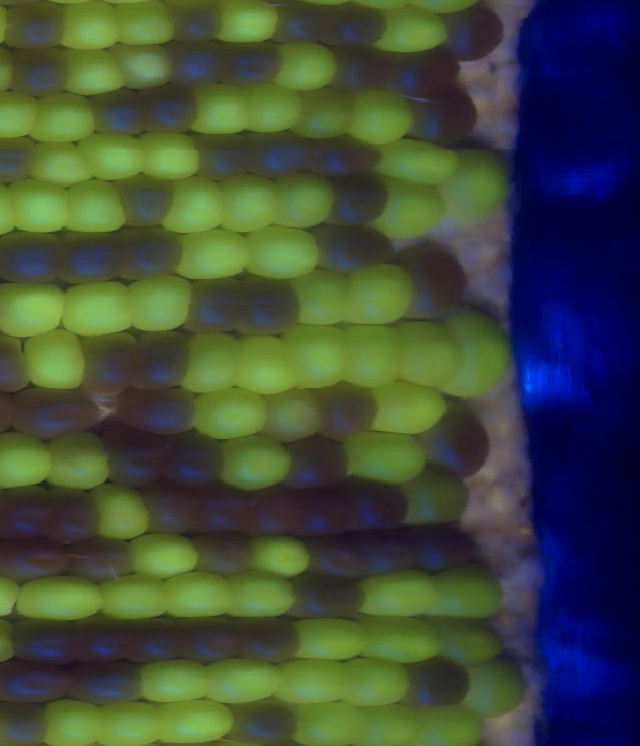fluorescent: (435, 307, 515, 406), (387, 457, 477, 534), (437, 142, 514, 227), (273, 318, 356, 394), (423, 560, 513, 629), (453, 650, 532, 725), (10, 571, 112, 629), (226, 327, 308, 399), (389, 313, 463, 391), (15, 322, 93, 395), (417, 611, 513, 670), (267, 653, 361, 713), (120, 266, 198, 338), (350, 564, 448, 621), (370, 129, 464, 188), (350, 610, 444, 669), (205, 167, 286, 235), (58, 275, 140, 342), (342, 258, 416, 332), (168, 225, 259, 285), (239, 223, 327, 285), (365, 173, 448, 238), (39, 425, 117, 494), (85, 477, 158, 550), (335, 318, 407, 392), (267, 167, 343, 237), (338, 429, 433, 485), (286, 262, 364, 330), (176, 327, 249, 399), (212, 431, 298, 491), (90, 566, 176, 626), (197, 651, 285, 709), (155, 566, 242, 624), (131, 649, 218, 707), (141, 698, 246, 746), (161, 171, 234, 240), (215, 567, 308, 621), (277, 694, 373, 746), (132, 119, 204, 188), (184, 381, 271, 438), (0, 171, 74, 238), (0, 276, 74, 343), (183, 78, 260, 141), (345, 81, 417, 148), (364, 4, 455, 57), (251, 383, 330, 444), (366, 380, 450, 437), (286, 613, 378, 665), (335, 654, 419, 710), (27, 89, 106, 148), (118, 529, 204, 583), (289, 81, 361, 145), (53, 44, 133, 101), (73, 126, 149, 186), (0, 427, 66, 496), (269, 35, 342, 97), (64, 175, 132, 240), (234, 78, 306, 137), (52, 1, 125, 59), (32, 692, 110, 746), (241, 529, 316, 585), (84, 698, 171, 746), (23, 132, 95, 189), (107, 40, 183, 93), (410, 702, 497, 746), (351, 698, 429, 746), (110, 1, 184, 51), (213, 1, 287, 49), (0, 83, 43, 145)
nonfluorescent: (421, 400, 502, 485), (7, 381, 111, 446), (394, 238, 474, 321), (229, 272, 312, 343), (282, 567, 374, 628), (305, 219, 400, 278), (0, 221, 77, 293), (74, 327, 148, 401), (406, 80, 486, 148), (111, 220, 192, 286), (151, 428, 233, 493), (219, 610, 307, 670), (1, 612, 94, 668), (398, 650, 478, 715), (309, 380, 388, 445), (110, 384, 201, 440), (49, 227, 127, 291), (387, 45, 473, 103), (109, 164, 182, 232), (335, 474, 419, 533), (439, 2, 510, 71), (238, 124, 321, 182), (275, 435, 356, 494), (165, 609, 243, 670), (63, 609, 141, 669), (129, 328, 202, 392), (223, 694, 312, 746), (178, 273, 251, 336), (408, 520, 487, 578), (318, 170, 394, 230), (104, 422, 171, 490), (136, 482, 214, 539), (117, 613, 195, 670), (283, 485, 362, 541), (233, 484, 310, 541), (314, 1, 395, 55), (62, 657, 149, 707), (306, 130, 388, 183), (38, 482, 104, 547), (0, 1, 76, 57), (297, 528, 375, 582), (344, 528, 421, 582), (214, 36, 289, 91), (136, 79, 203, 140), (0, 480, 63, 544), (7, 39, 74, 99), (160, 38, 231, 94), (0, 532, 71, 587), (185, 483, 256, 538), (62, 534, 140, 584), (84, 85, 152, 142), (193, 129, 261, 185), (325, 43, 396, 96), (187, 529, 257, 582), (0, 660, 76, 705), (163, 1, 229, 48), (266, 1, 330, 48), (0, 127, 44, 189), (0, 695, 52, 746), (0, 330, 34, 398)
